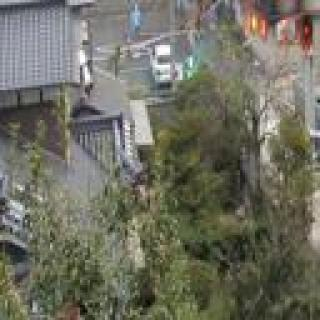fire: (235, 0, 310, 52)
